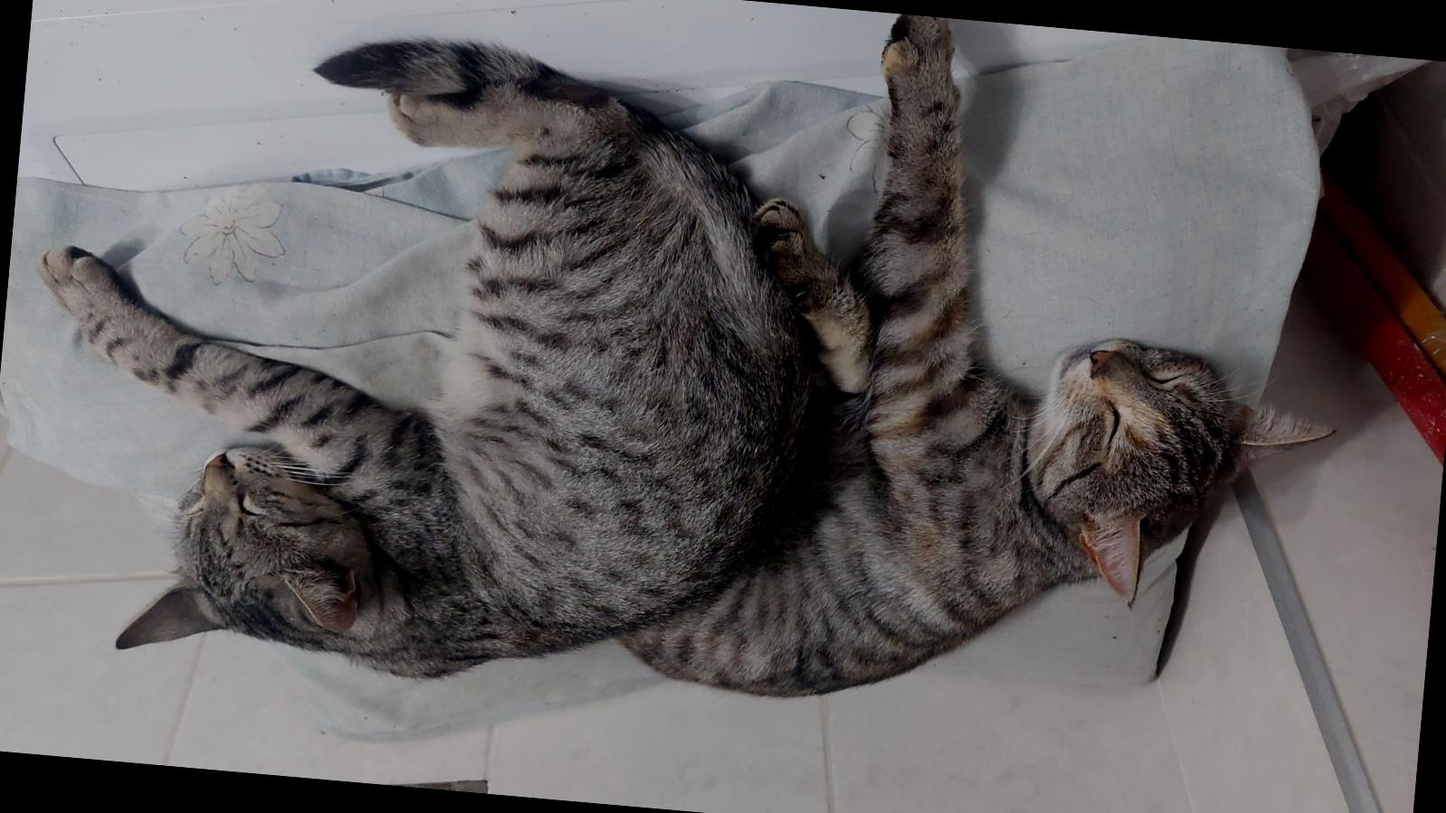macka: (597, 0, 1369, 742), (8, 13, 826, 710)
